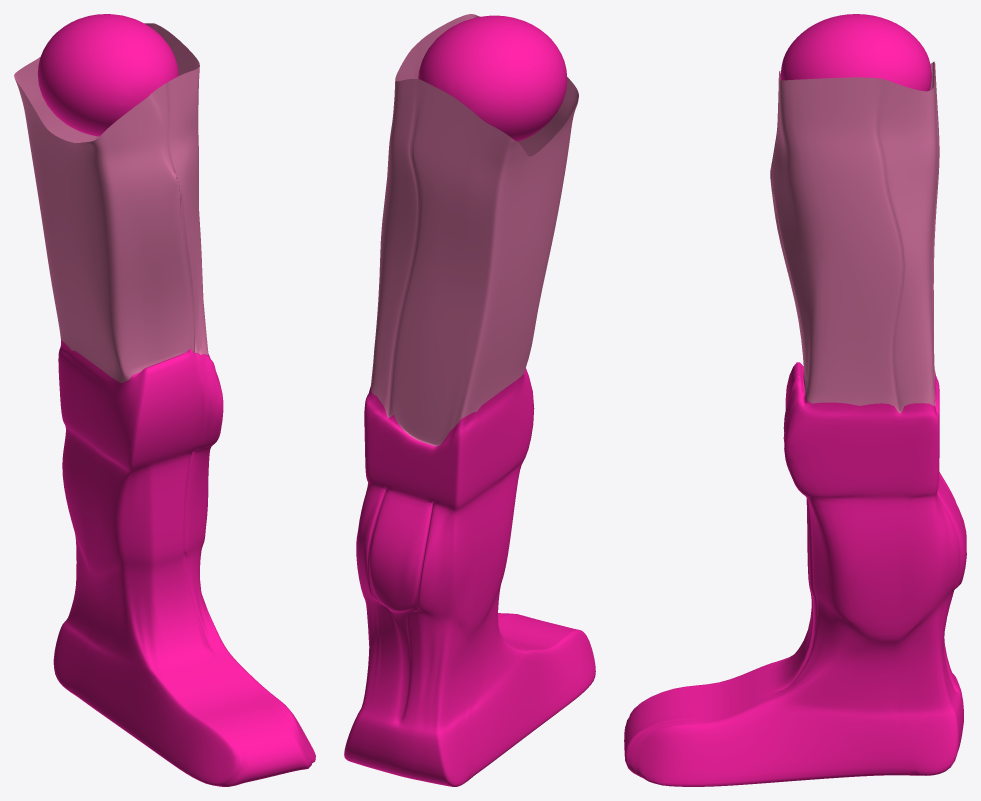
File: leg_right.fbx
The picture shows the model from 3 angles, left to right: view 1: azimuth 30°, elevation 25°; view 2: azimuth 150°, elevation 25°; view 3: azimuth 270°, elevation 25°; orthographic projection. The views are drawn at different scales.
Visible parts, largest first — view 1: leg_right; view 2: leg_right; view 3: leg_right.
Boxes of the visible parts, x1,y1,x2,y2 form: leg_right: (14,14,315,786); leg_right: (344,14,595,786); leg_right: (624,14,966,786).
Size of the model in its own units: 0.2539 by 0.9554 by 0.4187.
